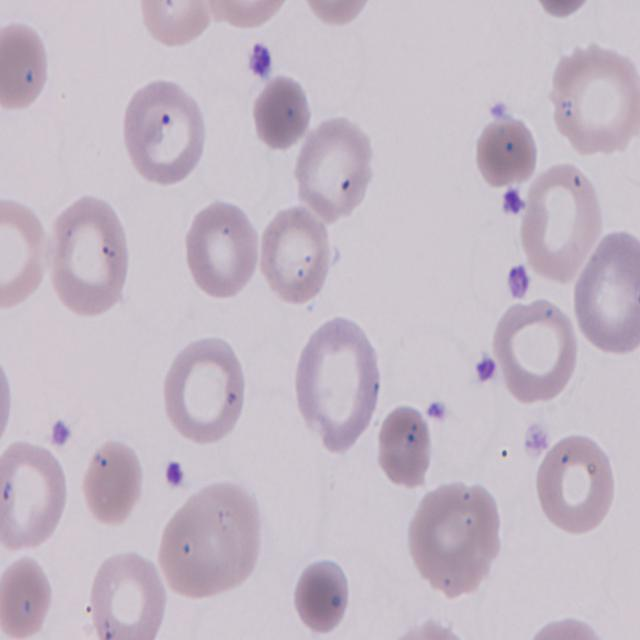RBC: (158, 477, 268, 602), (404, 479, 508, 597), (491, 291, 582, 413), (517, 162, 606, 284), (118, 74, 211, 190), (162, 335, 252, 453), (545, 46, 640, 157), (48, 194, 134, 315), (290, 114, 376, 221), (532, 434, 618, 538), (0, 436, 72, 556), (180, 198, 262, 302), (256, 202, 335, 308), (576, 236, 640, 364), (86, 543, 168, 640), (76, 437, 148, 531), (0, 195, 52, 320), (0, 554, 58, 640), (0, 18, 50, 112), (137, 0, 223, 52), (202, 0, 298, 32), (289, 0, 382, 26)
Spherocyte: (374, 402, 439, 492), (288, 556, 358, 632), (473, 113, 537, 189), (250, 75, 310, 148)
